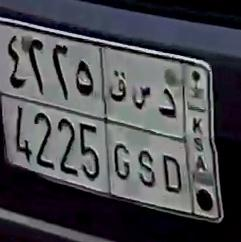2: (50, 40, 78, 177), (29, 33, 55, 170)
4: (6, 32, 31, 165)
5: (75, 53, 101, 184)
D: (160, 84, 186, 195)
G: (109, 68, 131, 183)
S: (131, 79, 156, 188)
